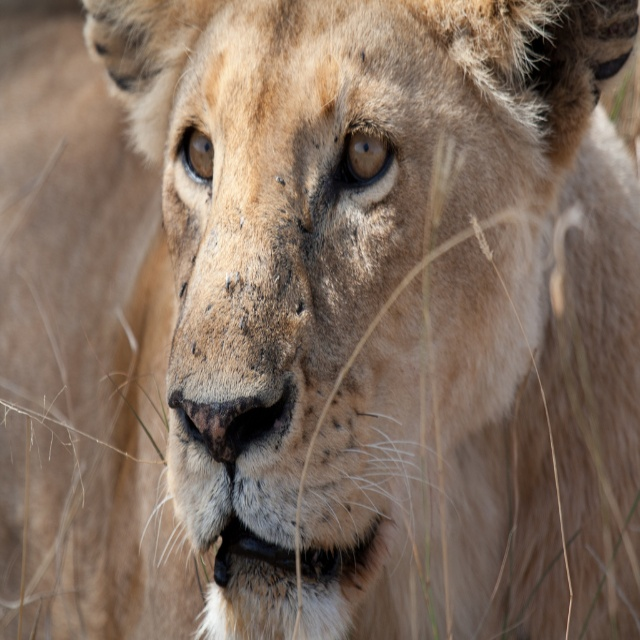Lion: (81, 0, 639, 640)
